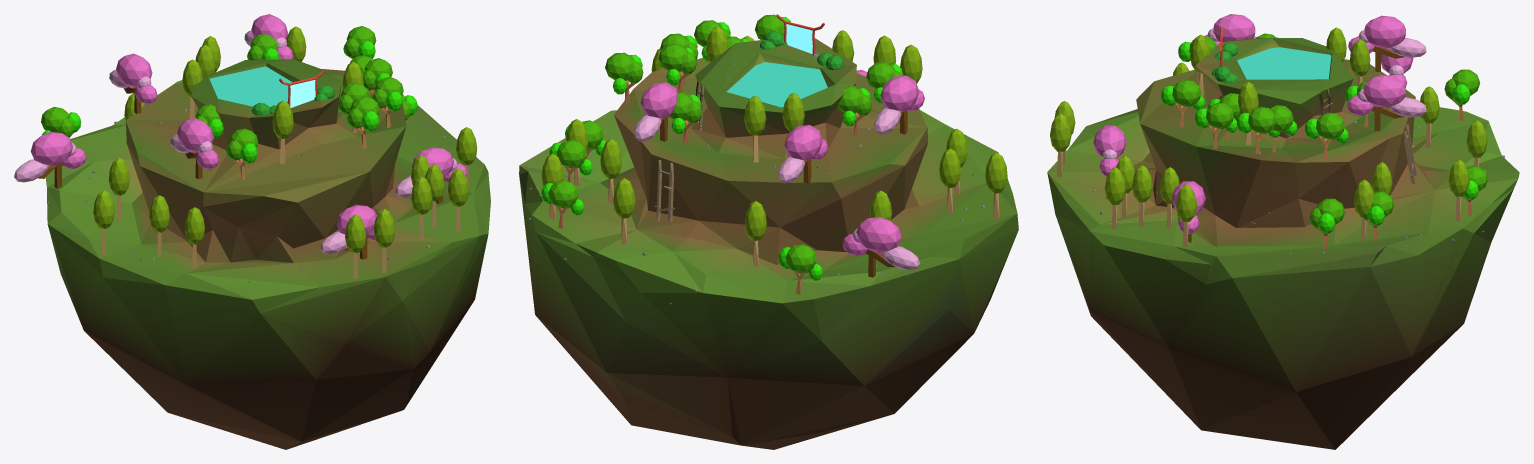
3 views of the same model, side by side, from view 1: azimuth 30°, elevation 25°; view 2: azimuth 150°, elevation 25°; view 3: azimuth 270°, elevation 25° (orthographic). The views are drawn at different scales.
Visible parts, largest first — view 1: Island.018, Water.018, Tree3 - 2.064, Tree3 - 2.067, Tree3 - 2.066, Tree3 - 2.062, Tree3 - 2.063, Tree3 - 2.065, Tree1 - 2.086, Tree1 - 2.090, Tree1 - 2.092, Tree1 - 2.084 (+19 smaller); view 2: Island.018, Water.018, Tree3 - 2.064, Tree3 - 2.067, Tree3 - 2.066, Tree3 - 2.065, Tree1 - 2.089, Tree1 - 2.091, Tree1 - 2.084, Tree1 - 2.083, Tree1 - 2.087, Tree1 - 2.093 (+21 smaller); view 3: Island.018, Water.018, Tree3 - 2.065, Tree3 - 2.066, Tree3 - 2.062, Tree1 - 2.089, Tree1 - 2.086, Tree3 - 2.067, Tree1 - 2.092, Tree1 - 2.085, Tree1 - 2.084, Tree1 - 2.081 (+20 smaller).
Boxes of the visible parts, box(x1,y1,x2,y2) form: Island.018: box(45, 59, 490, 449); Water.018: box(209, 66, 292, 107); Tree3 - 2.064: box(14, 132, 86, 188); Tree3 - 2.067: box(170, 118, 218, 179); Tree3 - 2.066: box(109, 53, 157, 113); Tree3 - 2.062: box(320, 204, 377, 259); Tree3 - 2.063: box(395, 147, 467, 203); Tree3 - 2.065: box(244, 14, 293, 59); Tree1 - 2.086: box(347, 96, 379, 148); Tree1 - 2.090: box(226, 128, 258, 180); Tree1 - 2.092: box(372, 77, 403, 128); Tree1 - 2.084: box(41, 107, 81, 137); Island.018: box(519, 38, 1018, 449); Water.018: box(726, 62, 827, 107); Tree3 - 2.064: box(842, 217, 919, 277); Tree3 - 2.067: box(874, 75, 924, 134); Tree3 - 2.066: box(778, 125, 828, 183); Tree3 - 2.065: box(634, 82, 677, 141); Tree1 - 2.089: box(605, 52, 643, 103); Tree1 - 2.091: box(658, 43, 696, 92); Tree1 - 2.084: box(778, 244, 822, 294); Tree1 - 2.083: box(541, 180, 584, 228); Tree1 - 2.087: box(837, 86, 871, 135); Tree1 - 2.093: box(668, 92, 702, 143); Island.018: box(1047, 37, 1519, 449); Water.018: box(1237, 47, 1331, 79); Tree3 - 2.065: box(1347, 74, 1426, 131); Tree3 - 2.066: box(1348, 15, 1426, 71); Tree3 - 2.062: box(1093, 125, 1126, 176); Tree1 - 2.089: box(1305, 112, 1348, 159); Tree1 - 2.086: box(1161, 79, 1204, 127); Tree3 - 2.067: box(1204, 14, 1256, 45); Tree1 - 2.092: box(1195, 102, 1237, 148); Tree1 - 2.085: box(1237, 107, 1280, 154); Tree1 - 2.084: box(1444, 69, 1479, 120); Tree1 - 2.081: box(1309, 198, 1344, 248).
Bounding box in the file's own units: 41.96 × 39.87 × 43.73.
